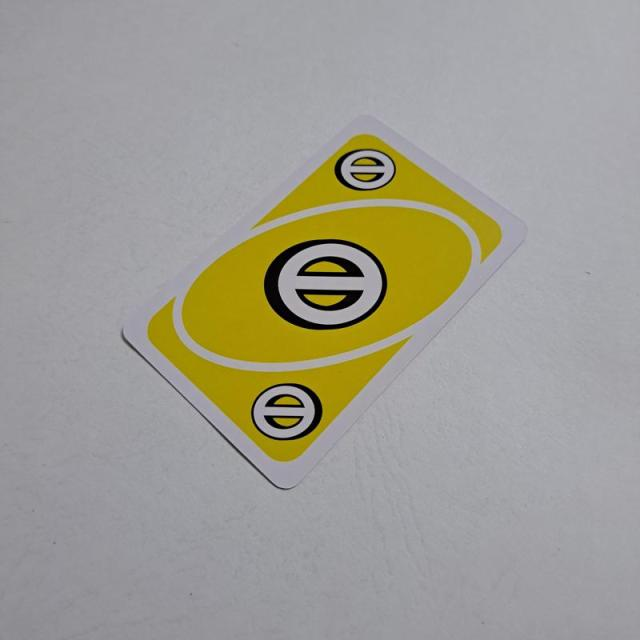Skip: (331, 140, 404, 201)
Yellow_Card: (142, 130, 509, 470)
